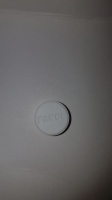Parol: (34, 99, 71, 136)
